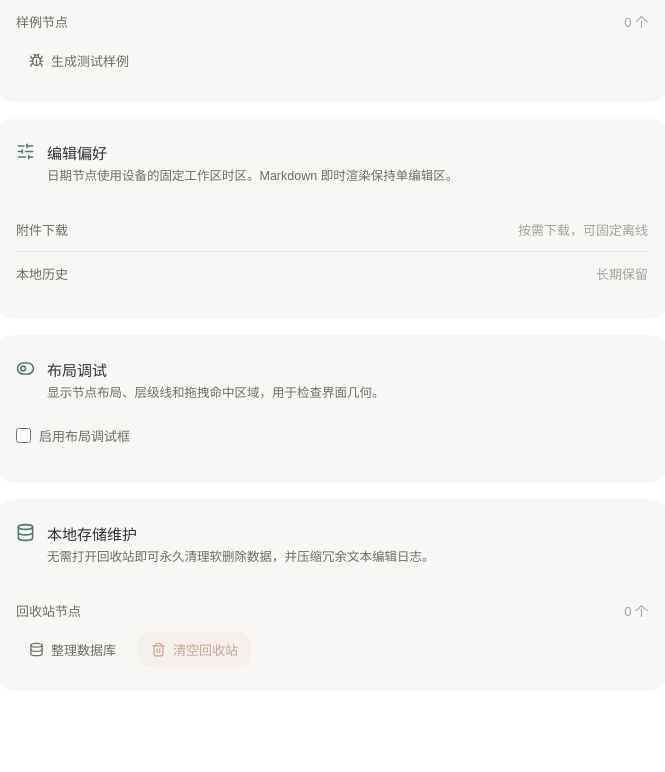
it: SettingsPanel layout debug › enables layout debug and exposes the shared debug-box controls
(page scrolled)
Click the checkbox labelled "启用布局调试框". click: (24, 435)
box: [16,428,31,442]
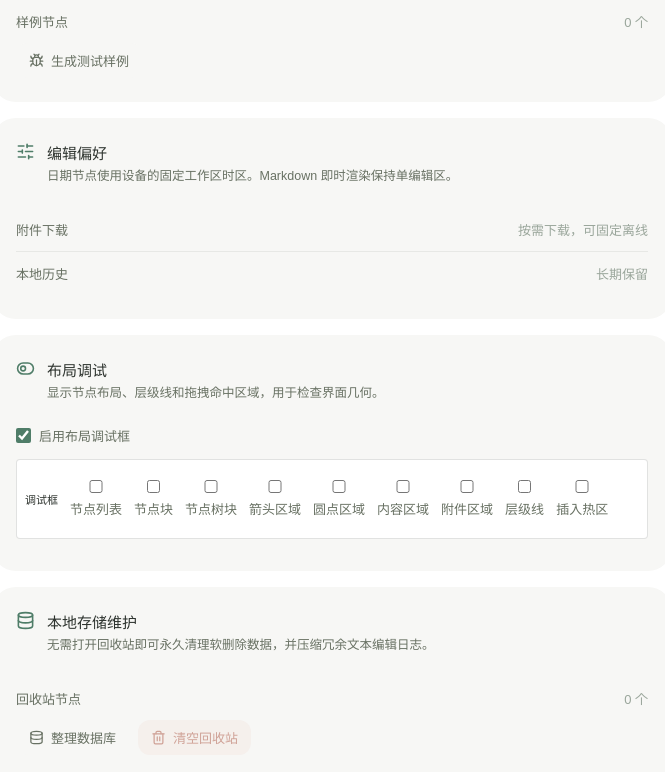
Expected: the element named "布局调试框显示" is shown, [16,458,648,538]
Expected: the checkbox labelled "层级线" is shown, [505,480,544,492]
